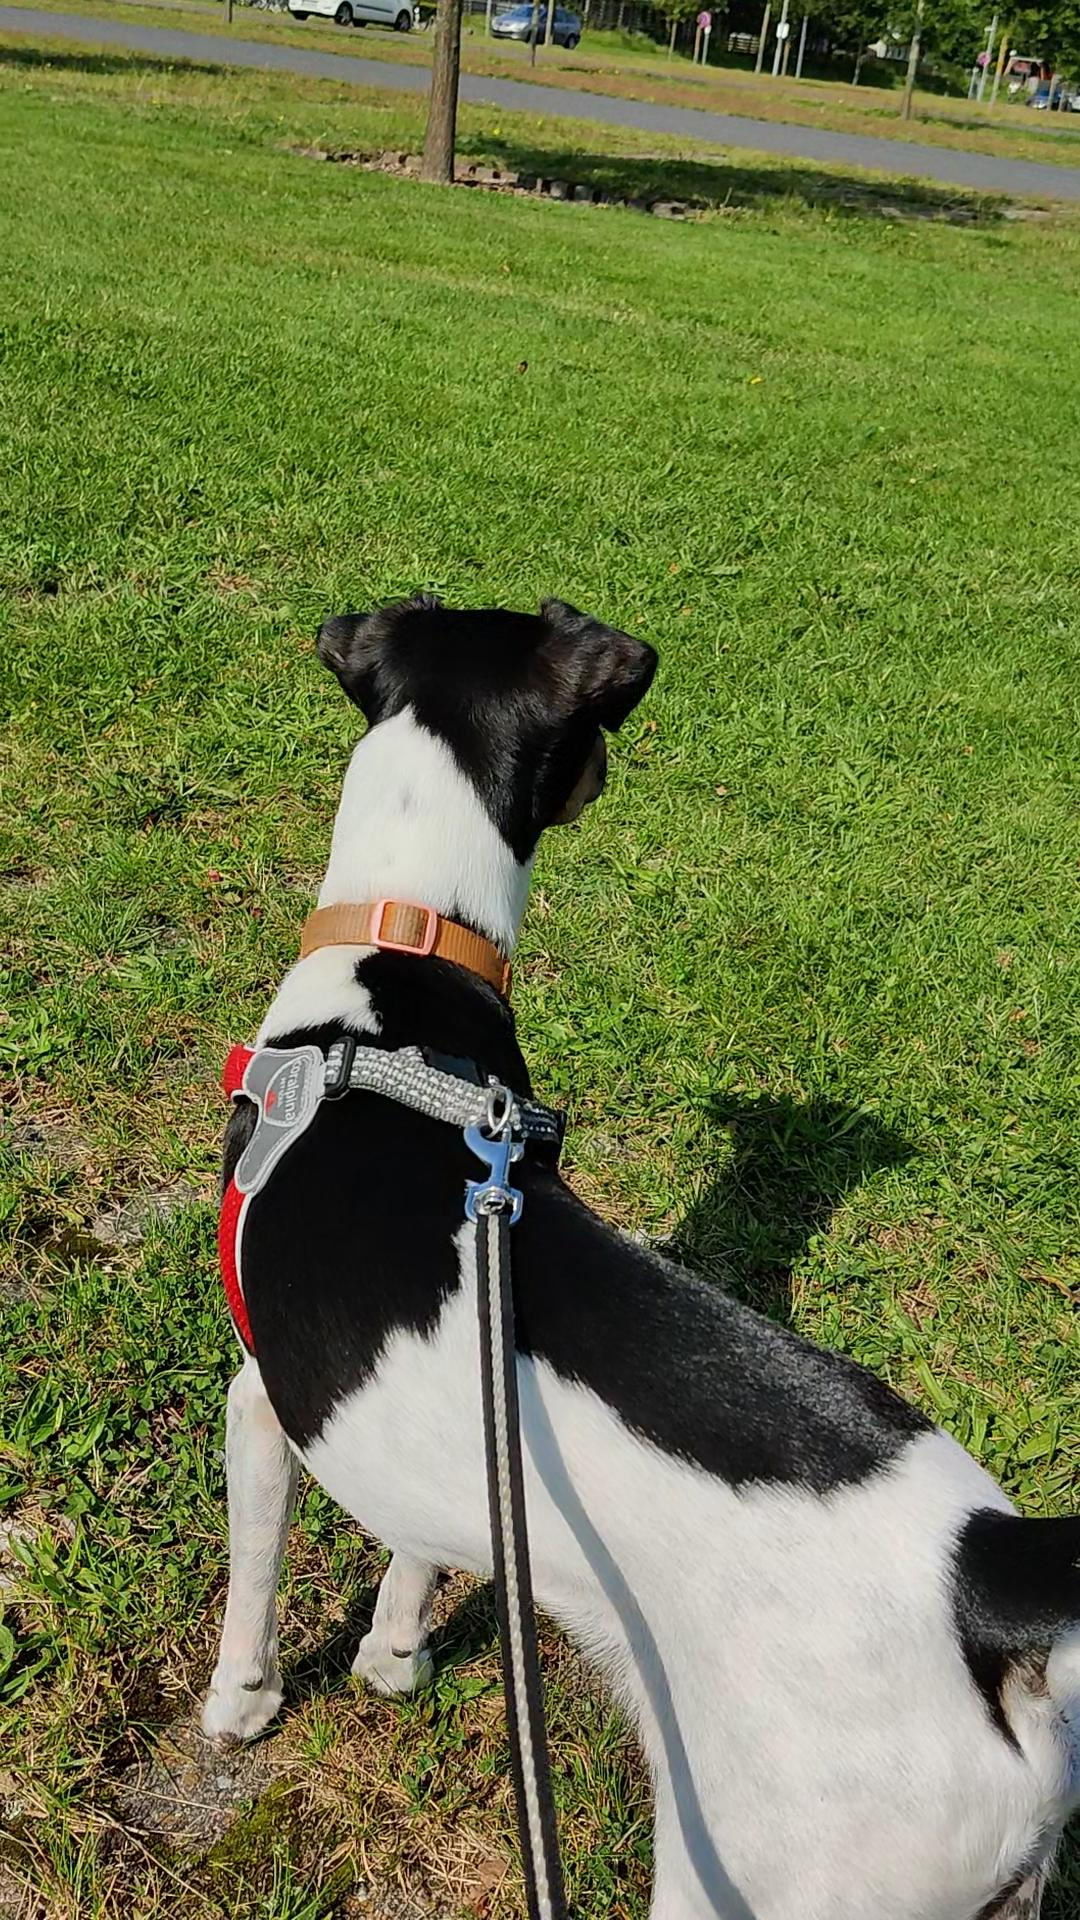Dog: (187, 574, 1079, 1919)
